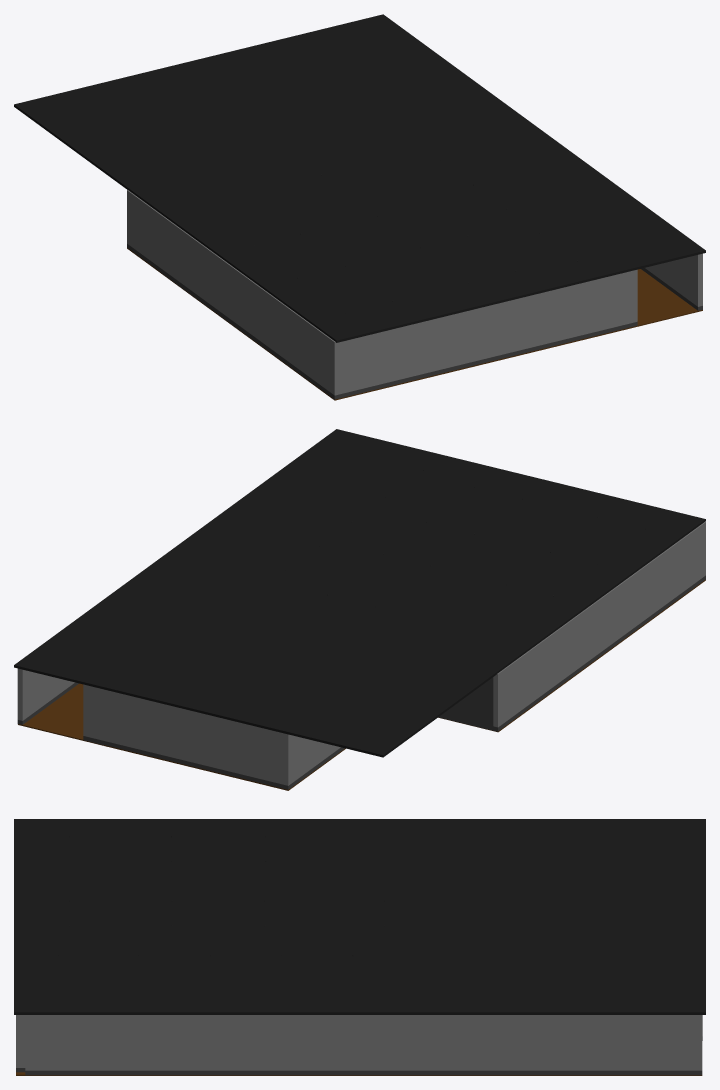
File: Shell.fbx
3 views of the same model, one above another, from view 1: azimuth 30°, elevation 25°; view 2: azimuth 150°, elevation 25°; view 3: azimuth 270°, elevation 25° (orthographic). The views are drawn at different scales.
Parts seen in each view (by area): view 1: Cube.016; view 2: Cube.016; view 3: Cube.016.
Boxes of the visible parts, x1,y1,x2,y2 form: Cube.016: [14, 14, 705, 400]; Cube.016: [14, 429, 705, 790]; Cube.016: [14, 819, 705, 1075].
Size of the model in its own units: 3420 by 560 by 5161.
